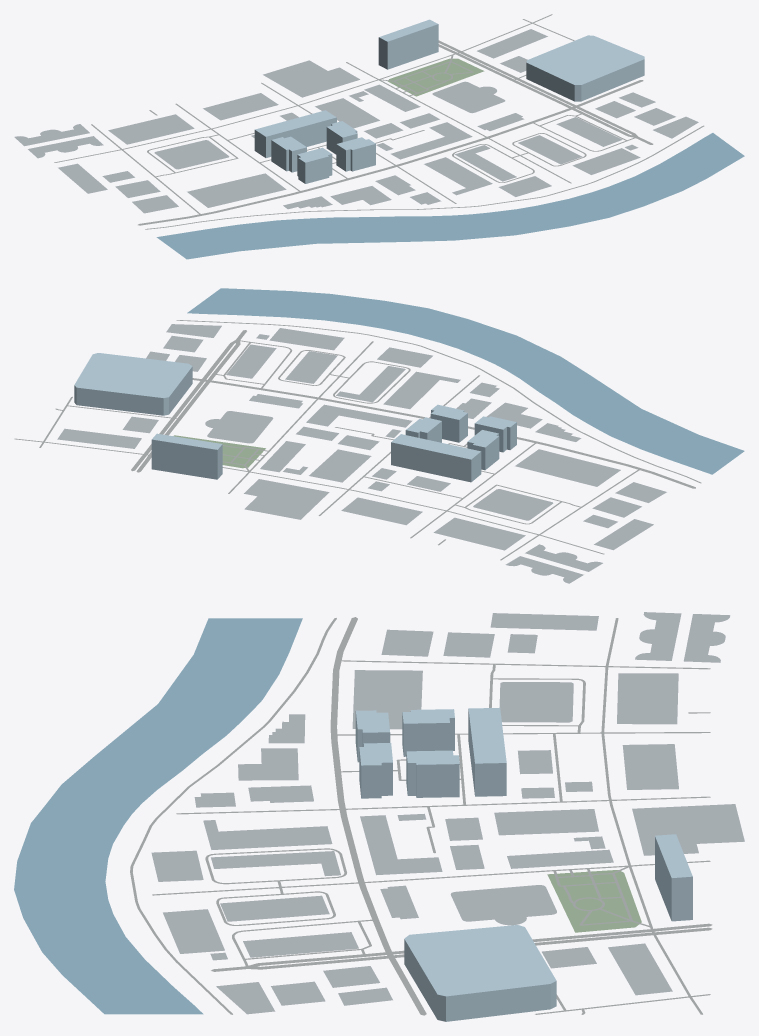
Rendered from 2_-4-known-coarse.glb.
The picture shows the model from 3 angles, top to bottom: view 1: azimuth 30°, elevation 25°; view 2: azimuth 150°, elevation 25°; view 3: azimuth 270°, elevation 25°; orthographic projection. The views are drawn at different scales.
Size of the model in its own units: 1035 by 51 by 781.
